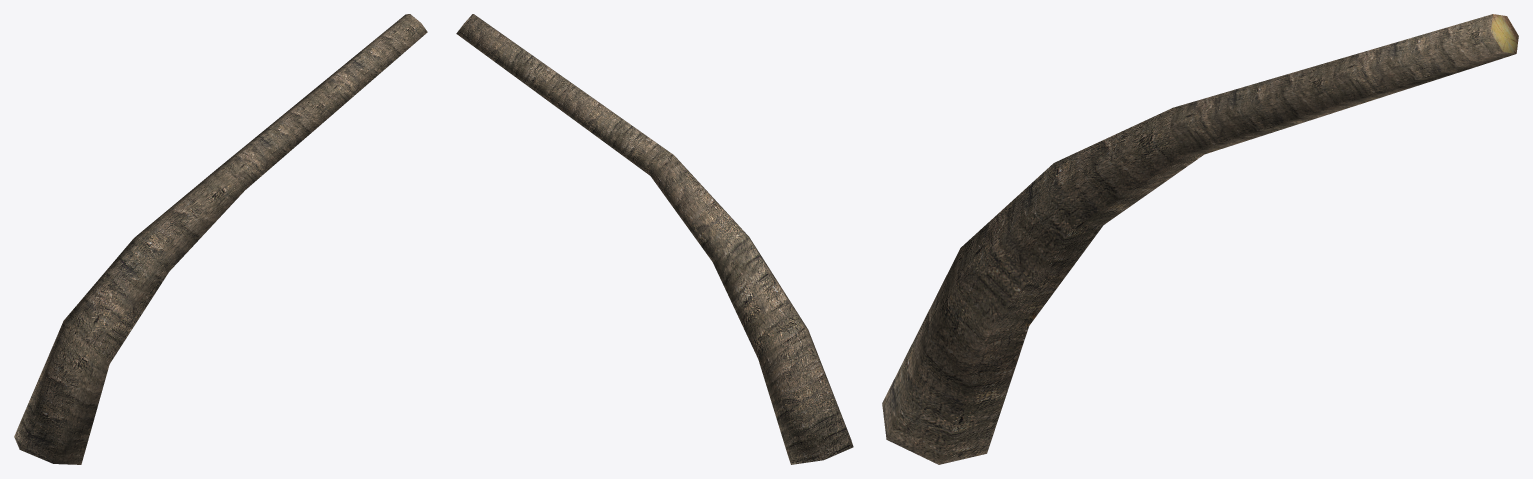
The model's file is fracturePiece1.fbx.
The picture shows the model from 3 angles, left to right: view 1: azimuth 30°, elevation 25°; view 2: azimuth 150°, elevation 25°; view 3: azimuth 330°, elevation 25°; orthographic projection. The views are drawn at different scales.
Parts seen in each view (by area): view 1: polySurface130; view 2: polySurface130; view 3: polySurface130.
Boxes of the visible parts, bbox=[...] form: polySurface130: bbox=[14, 14, 427, 464]; polySurface130: bbox=[456, 14, 853, 464]; polySurface130: bbox=[882, 14, 1518, 464].
Size of the model in its own units: 712 by 614 by 117.
